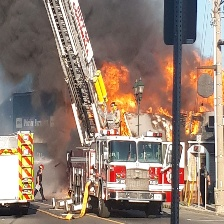fire: (160, 53, 216, 136), (103, 64, 136, 113)
smoke: (1, 1, 164, 82)
